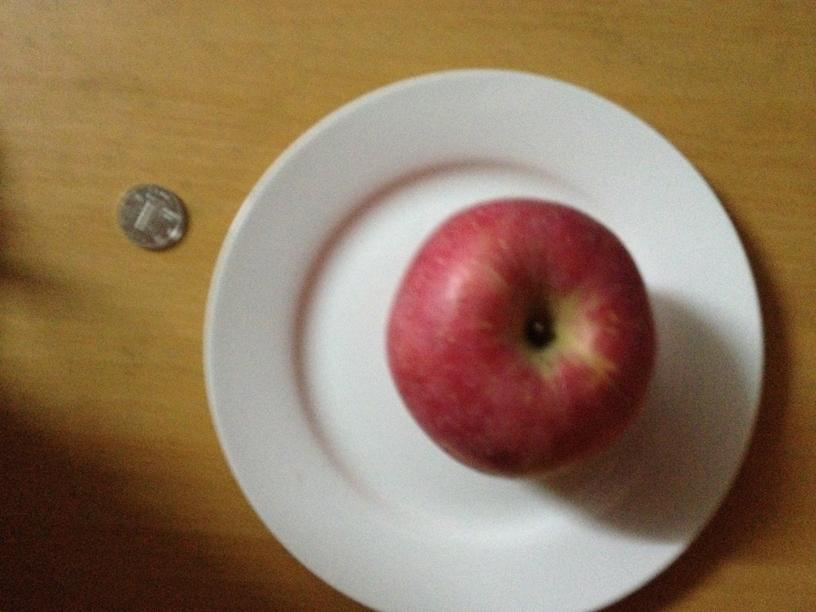apple: (385, 193, 661, 481)
coin: (116, 183, 185, 248)
